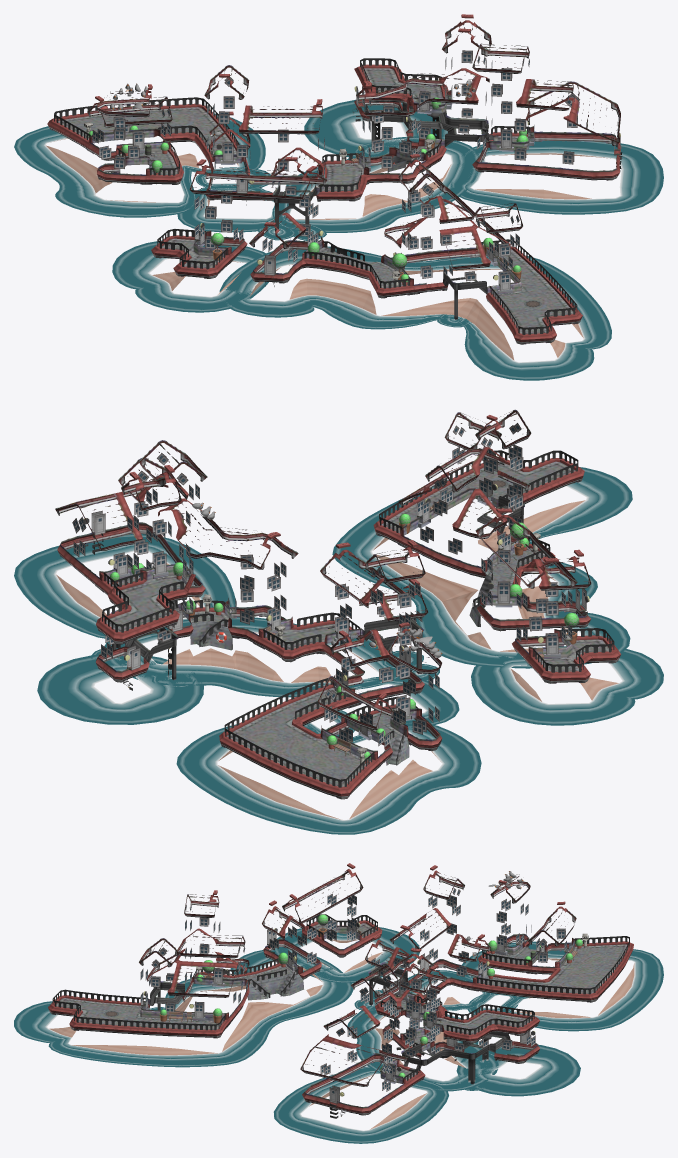
File: Townacuj7r8YSSdYS3wl.obj
3 views of the same model, one above another, from view 1: azimuth 30°, elevation 25°; view 2: azimuth 150°, elevation 25°; view 3: azimuth 270°, elevation 25° (orthographic). The views are drawn at different scales.
Visible parts, largest first — view 1: House, Water, Windows, Sand, Fencing, Props, Plants; view 2: House, Water, Windows, Sand, Fencing, Props, Plants, Birds; view 3: House, Water, Windows, Fencing, Sand, Props, Plants.
Part boxes in pixels (bbox=[...]): House: bbox=[47, 14, 621, 344]; Water: bbox=[14, 99, 663, 380]; Windows: bbox=[92, 50, 620, 290]; Sand: bbox=[46, 138, 610, 360]; Fencing: bbox=[54, 58, 622, 334]; Props: bbox=[84, 86, 622, 307]; Plants: bbox=[88, 97, 528, 282]; House: bbox=[55, 409, 621, 799]; Water: bbox=[14, 467, 663, 834]; Windows: bbox=[72, 423, 586, 747]; Sand: bbox=[56, 500, 618, 819]; Fencing: bbox=[92, 450, 614, 787]; Props: bbox=[83, 479, 589, 766]; Plants: bbox=[110, 513, 579, 760]; Birds: bbox=[192, 502, 442, 657]; House: bbox=[48, 863, 633, 1115]; Water: bbox=[14, 927, 663, 1143]; Windows: bbox=[140, 888, 571, 1103]; Fencing: bbox=[52, 914, 629, 1118]; Sand: bbox=[49, 939, 634, 1129]; Props: bbox=[104, 922, 588, 1116]; Plants: bbox=[160, 914, 582, 1077].
Bounding box in the file's own units: 16.8 × 4.28 × 21.11.
1 material, 1 textured.
